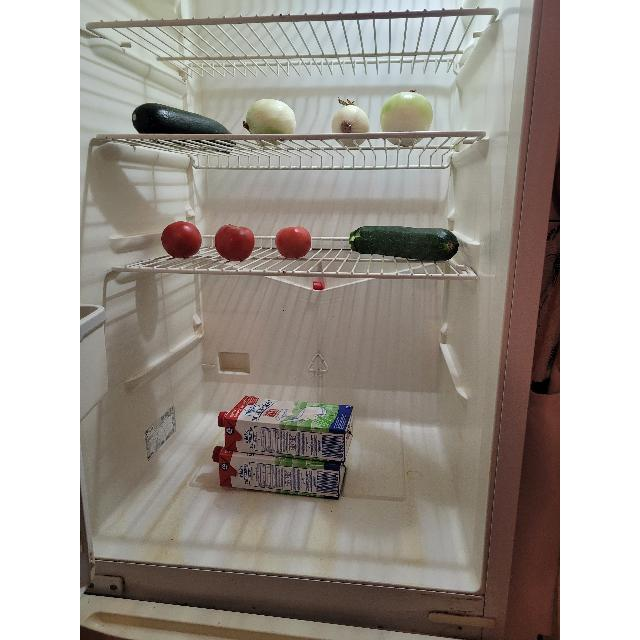milk: (221, 396, 355, 462), (216, 447, 346, 501)
onion: (379, 90, 433, 146), (245, 98, 297, 142), (332, 100, 371, 146)
tomato: (160, 220, 202, 260), (213, 223, 254, 261), (275, 226, 313, 260)
zucchini: (350, 226, 454, 262), (132, 102, 232, 136)
